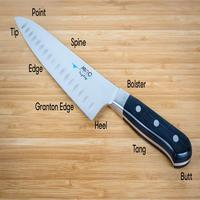knife: (14, 14, 195, 167)
